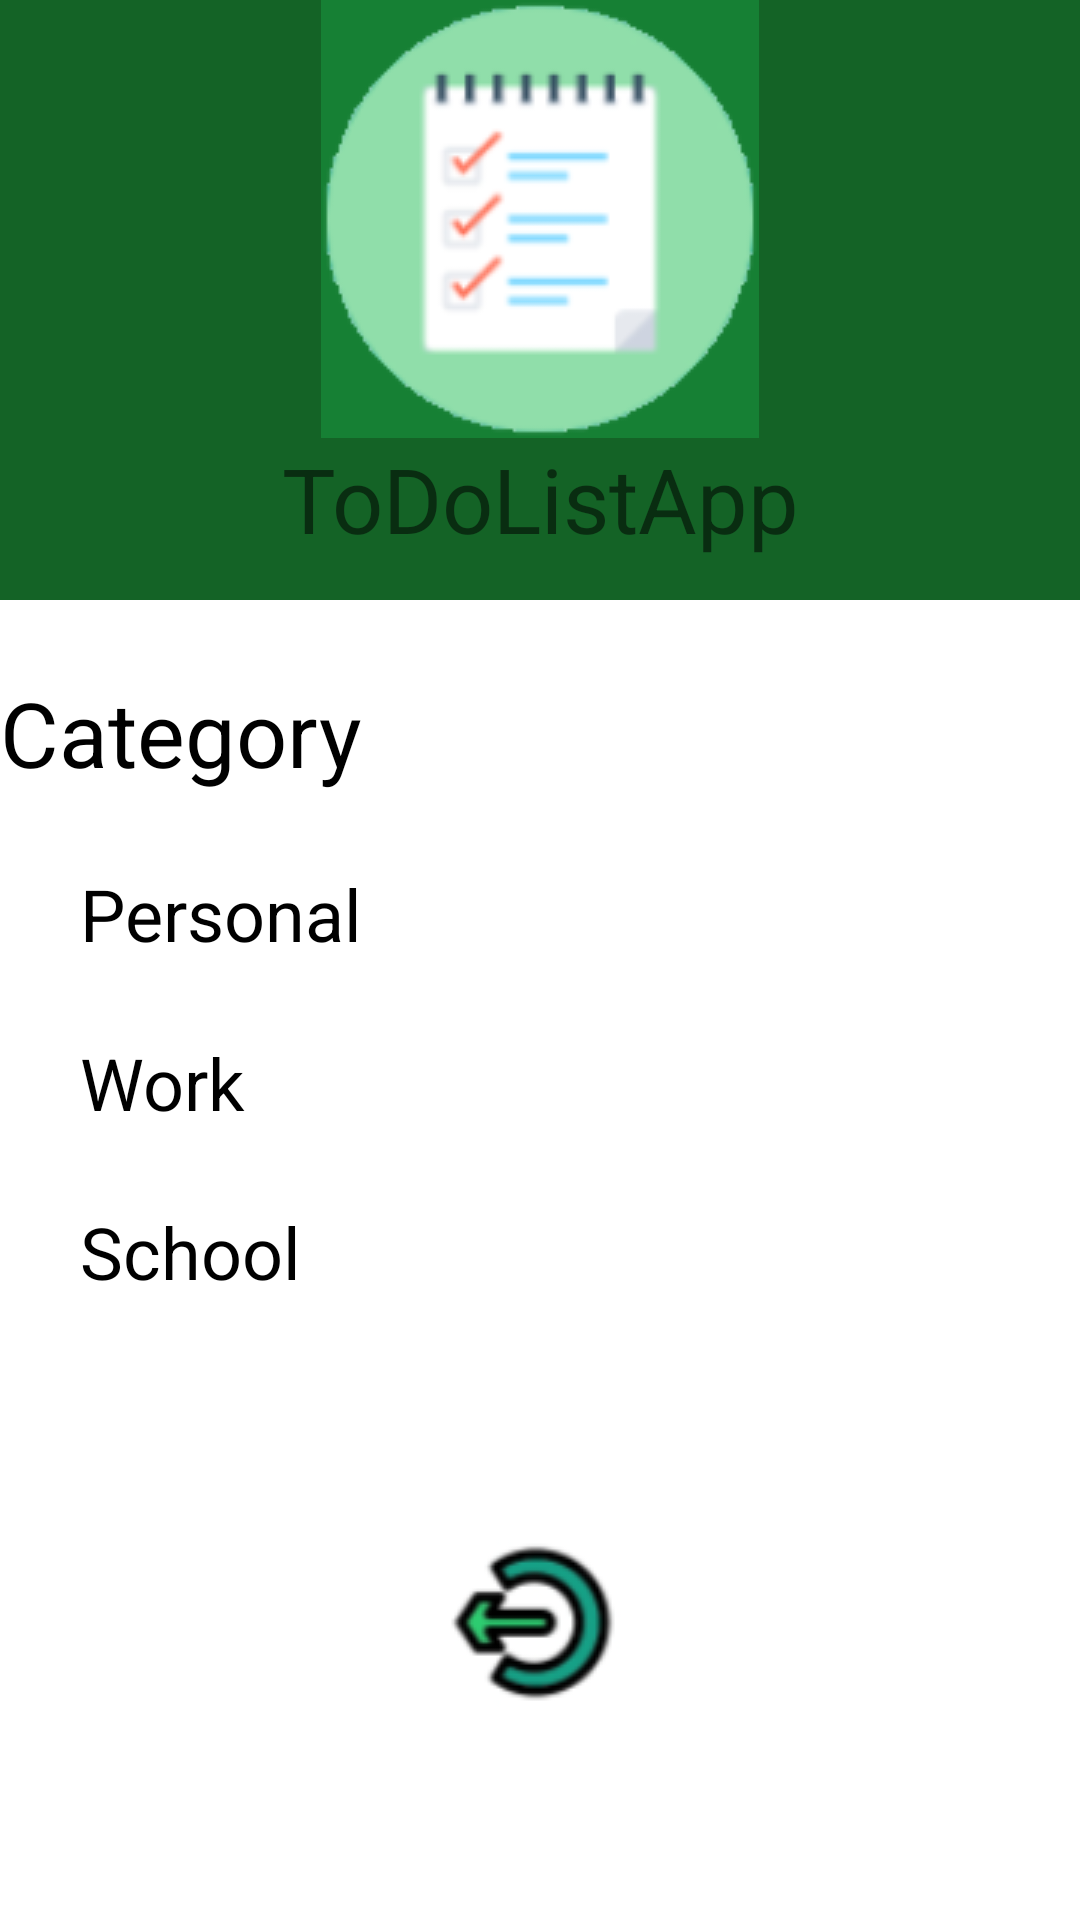

Point at icon controls on the screen. Image size 1080×1920, points as point (x, y).
log out: point (533, 1623)
